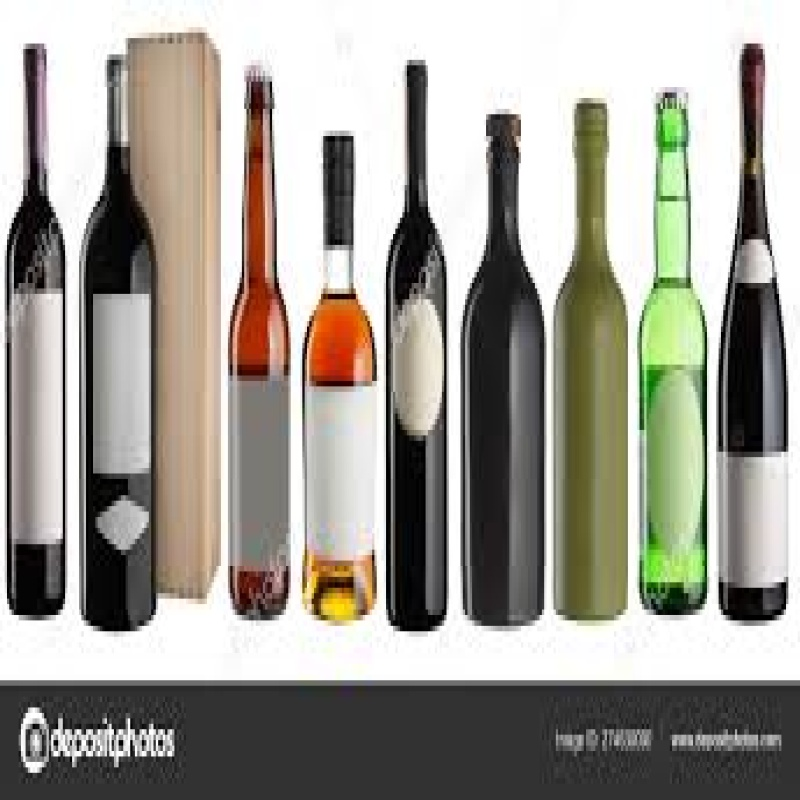wine: (76, 53, 160, 631), (544, 102, 637, 616), (215, 66, 293, 615), (304, 131, 386, 633), (637, 88, 709, 603), (388, 50, 447, 618)
